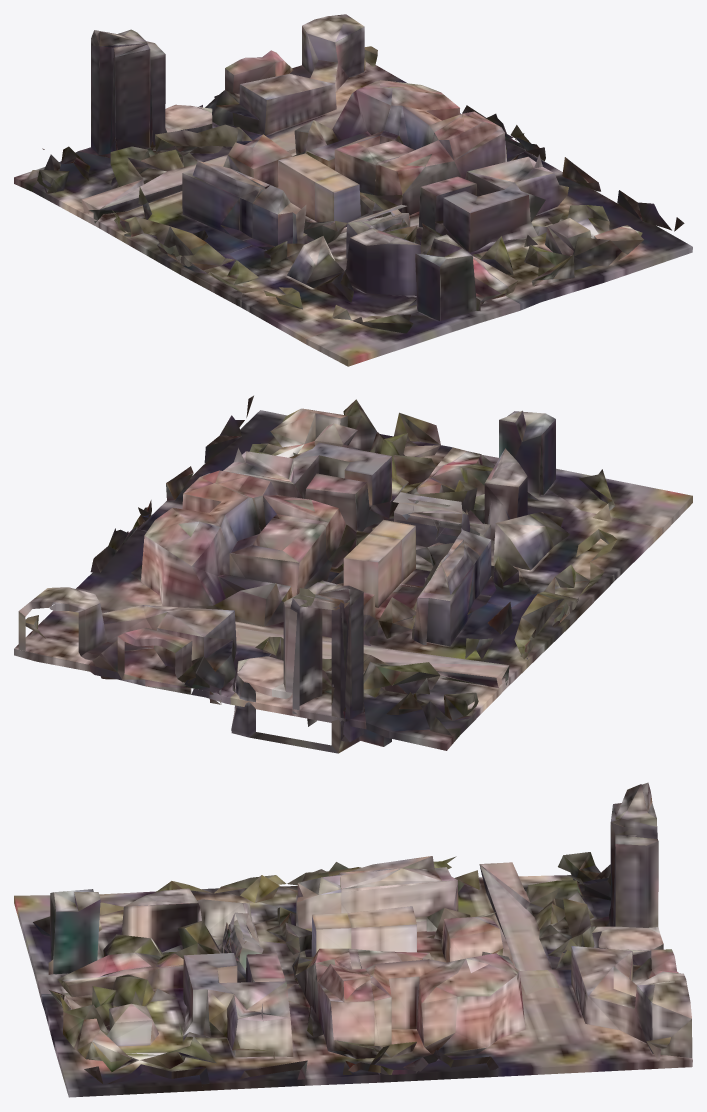
3 views of the same model, one above another, from view 1: azimuth 30°, elevation 25°; view 2: azimuth 150°, elevation 25°; view 3: azimuth 270°, elevation 25° (orthographic). The views are drawn at different scales.
Parts seen in each view (by area): view 1: Mesh_0; view 2: Mesh_0; view 3: Mesh_0.
Part boxes in pixels (<box>): Mesh_0: <box>14,14,692,366</box>; Mesh_0: <box>14,395,692,753</box>; Mesh_0: <box>14,782,692,1097</box>.
Bounding box in the file's own units: 266 × 90.53 × 330.
1 material, 1 textured.
